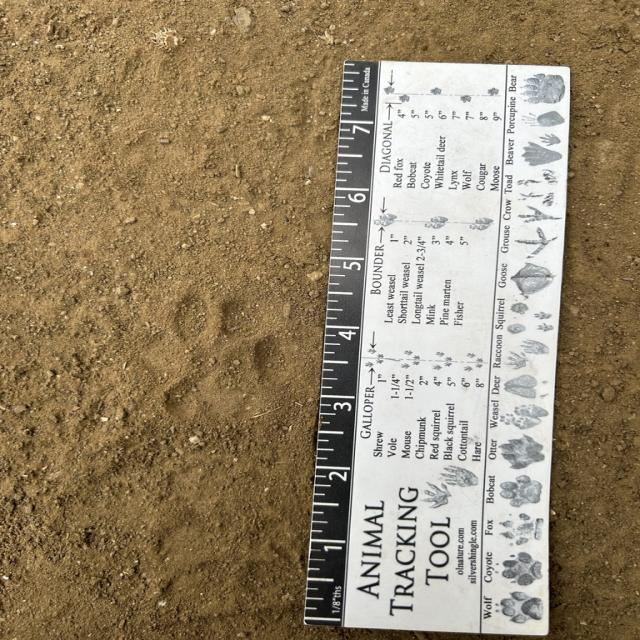felid: (135, 298, 288, 427)
